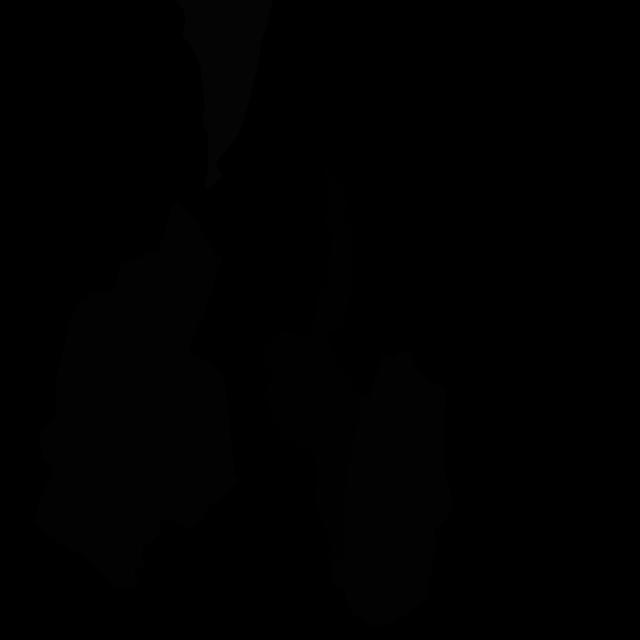cardboard: (35, 199, 223, 591), (326, 351, 453, 626), (135, 352, 240, 569), (38, 288, 113, 470)
rigid_plastic: (260, 164, 358, 560)
soft_plastic: (175, 0, 273, 190)
